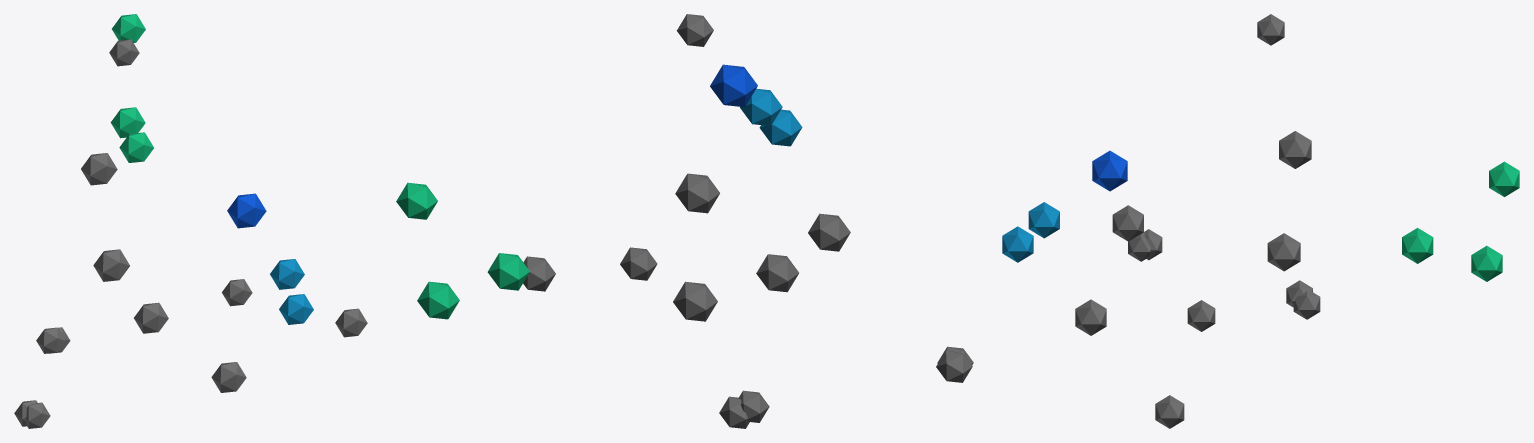
3 renders of one model, left to right at view 1: azimuth 30°, elevation 25°; view 2: azimuth 150°, elevation 25°; view 3: azimuth 270°, elevation 25°, orthographic. The views are drawn at different scales.
Parts seen in each view (by area): view 1: 09_04_01; view 2: 09_04_01; view 3: 09_04_01.
Part boxes in pixels (x1=…): 09_04_01: x1=14, y1=14, x2=367, y2=428; 09_04_01: x1=396, y1=14, x2=973, y2=428; 09_04_01: x1=1002, y1=14, x2=1519, y2=428.
Bounding box in the file's own units: 0.4819 × 0.403 × 0.5814.
